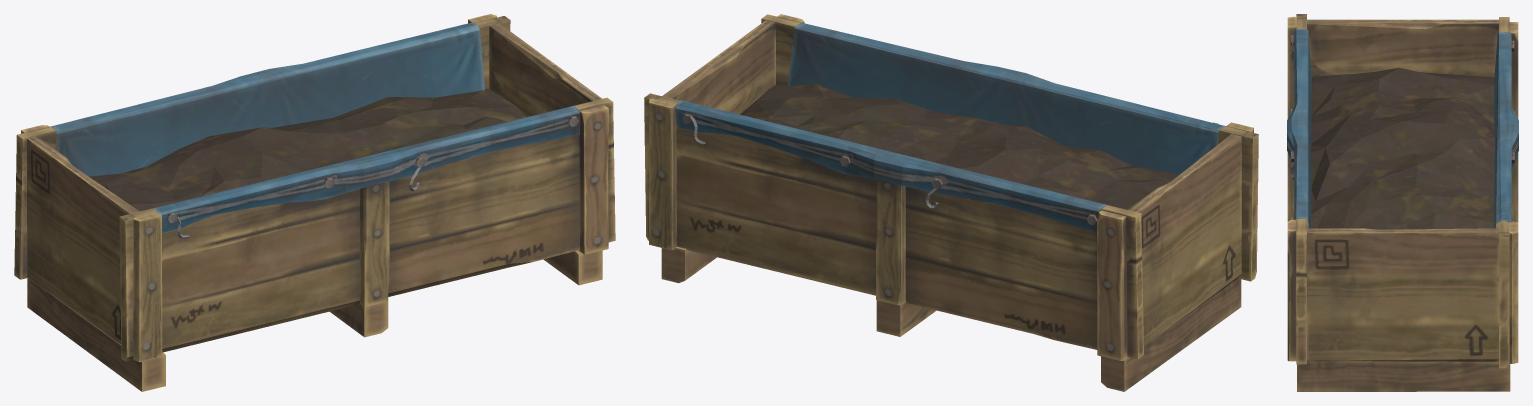
Rendered from P_Container_00177.obj.
3 views of the same model, side by side, from view 1: azimuth 30°, elevation 25°; view 2: azimuth 150°, elevation 25°; view 3: azimuth 270°, elevation 25° (orthographic). The views are drawn at different scales.
Bounding box in the file's own units: 2.07 × 0.7085 × 0.9065.
2 materials, 2 textured.
